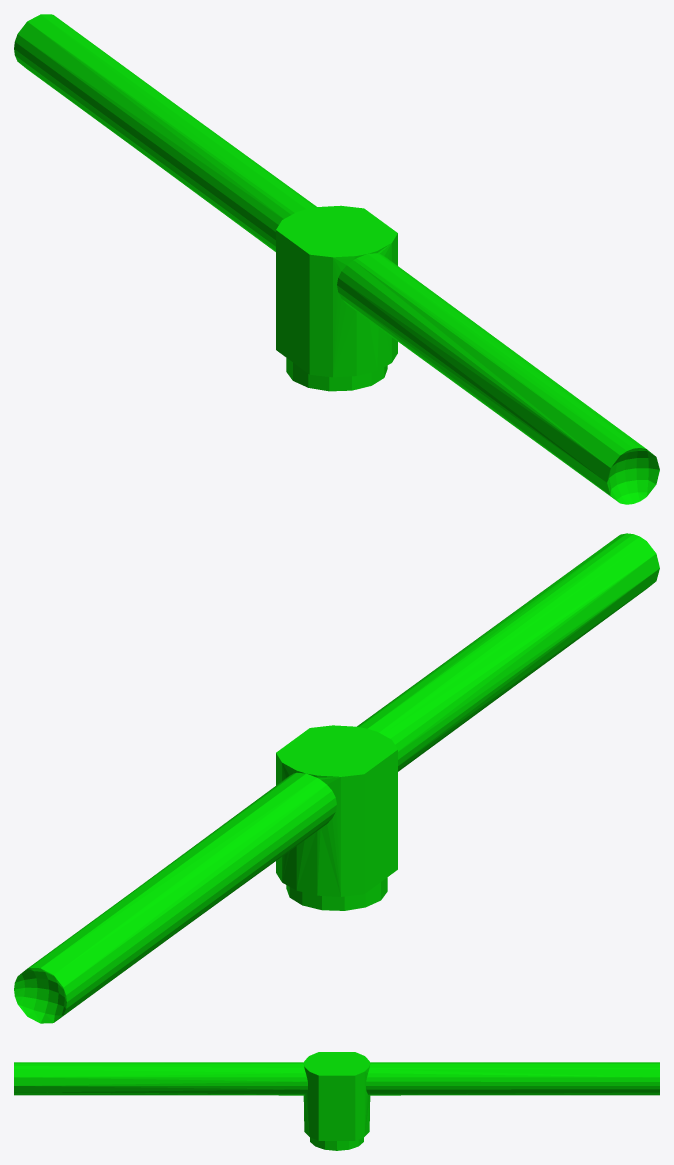
File: DiffBar.dae
3 renders of one model, top to bottom at view 1: azimuth 30°, elevation 25°; view 2: azimuth 150°, elevation 25°; view 3: azimuth 270°, elevation 25°, orthographic. The views are drawn at different scales.
Parts seen in each view (by area): view 1: DiffBar.001; view 2: DiffBar.001; view 3: DiffBar.001.
Part boxes in pixels (x1,y1,x2,y2): DiffBar.001: (14, 14, 659, 504); DiffBar.001: (14, 533, 659, 1023); DiffBar.001: (14, 1052, 659, 1150).
Size of the model in its own units: 0.05 by 0.582 by 0.075.
